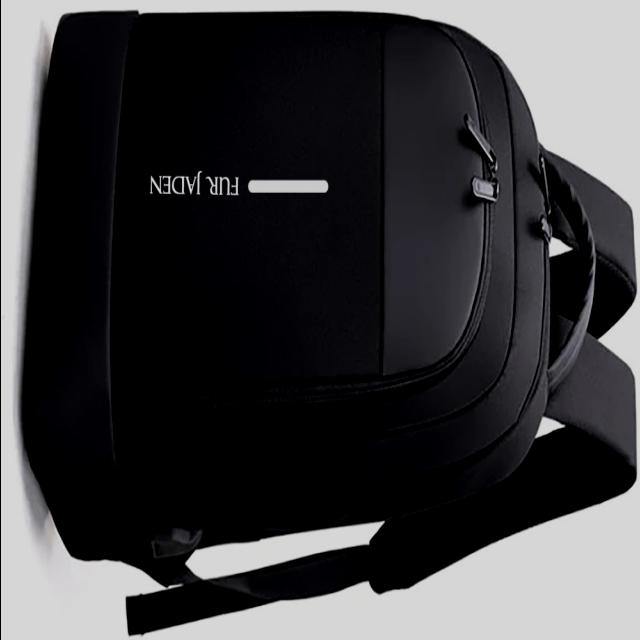backpack: (23, 9, 638, 637)
